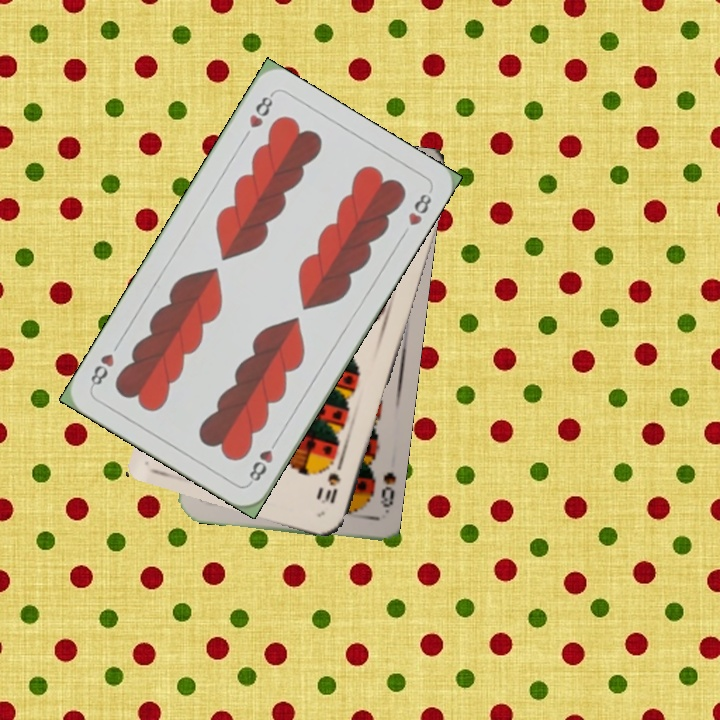H8: (245, 433, 282, 486), (245, 89, 276, 131)
S10: (316, 456, 346, 507)
S8: (376, 468, 398, 516)
